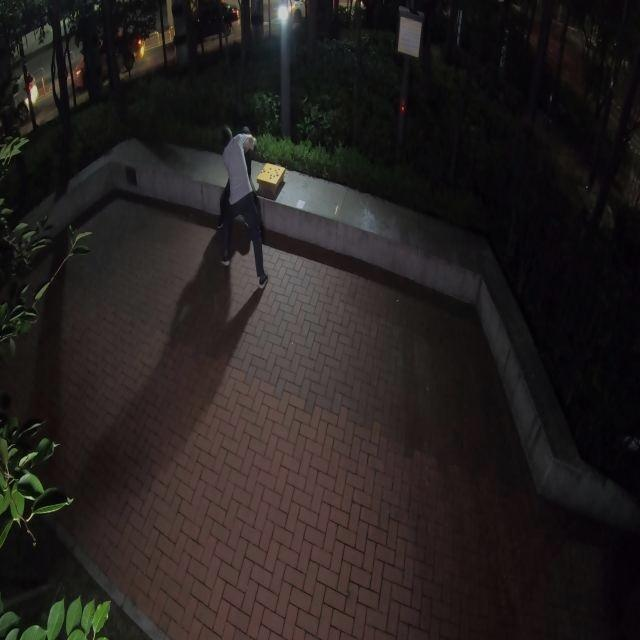fight: (208, 123, 268, 284)
